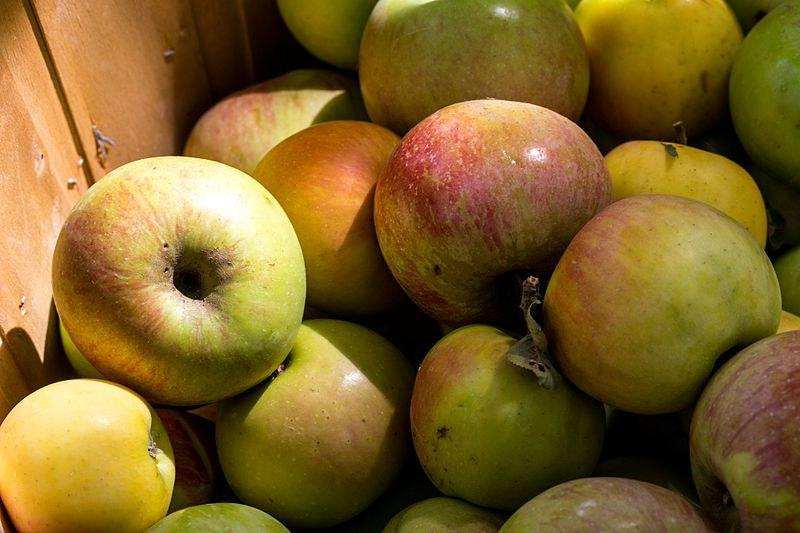Apple: (54, 160, 308, 408), (373, 100, 611, 330)
